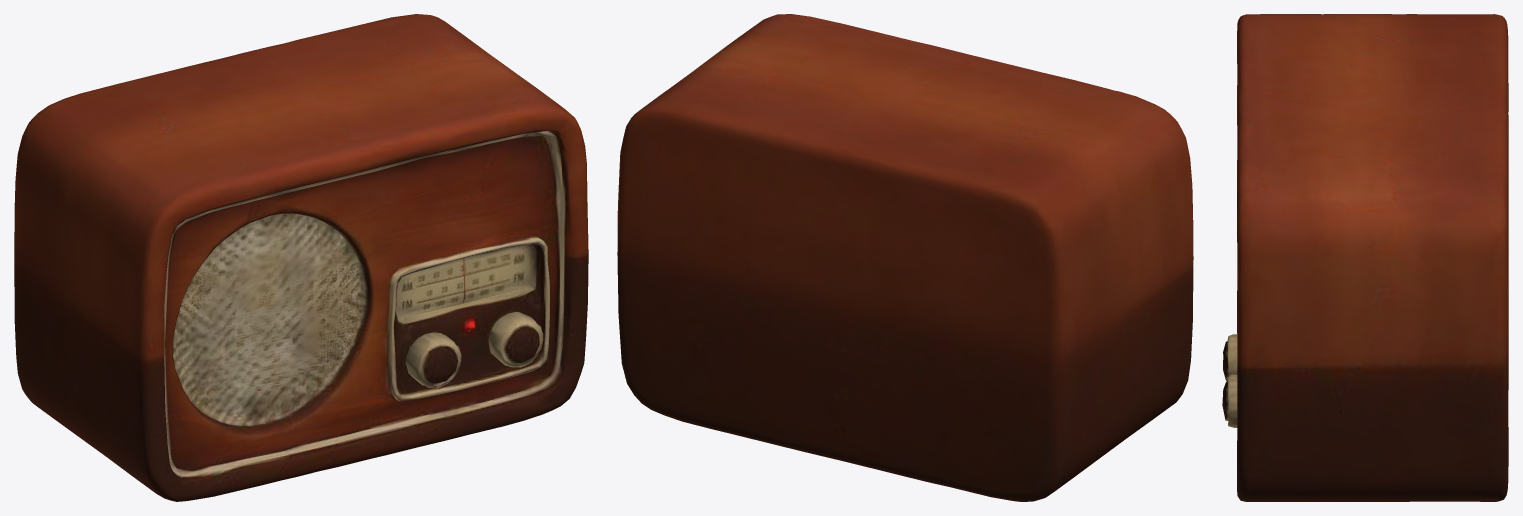
Rendered from family_radio.glb.
3 views of the same model, side by side, from view 1: azimuth 30°, elevation 25°; view 2: azimuth 150°, elevation 25°; view 3: azimuth 270°, elevation 25° (orthographic).
Parts seen in each view (by area): view 1: tripo_node_5d4c16be-6193-46e6-ab9e-170781d46b0e; view 2: tripo_node_5d4c16be-6193-46e6-ab9e-170781d46b0e; view 3: tripo_node_5d4c16be-6193-46e6-ab9e-170781d46b0e.
Part boxes in pixels (bbox=[...]): tripo_node_5d4c16be-6193-46e6-ab9e-170781d46b0e: bbox=[14, 14, 588, 501]; tripo_node_5d4c16be-6193-46e6-ab9e-170781d46b0e: bbox=[617, 14, 1193, 501]; tripo_node_5d4c16be-6193-46e6-ab9e-170781d46b0e: bbox=[1222, 14, 1508, 501].
Bounding box in the file's own units: 0.9802 × 0.6575 × 0.5397.
1 material, 1 textured.
